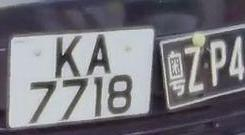1: (88, 73, 108, 120)
7: (21, 78, 61, 127), (57, 75, 90, 122)
8: (104, 70, 137, 120)
A: (83, 32, 112, 77)
K: (47, 34, 85, 80)
